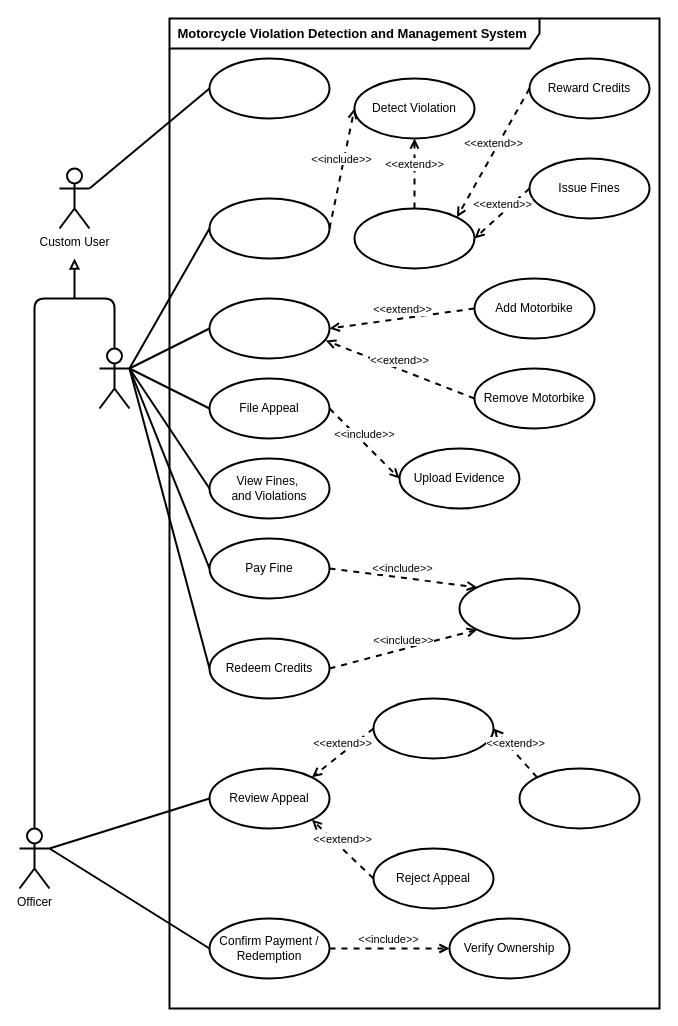
The diagram is 678 pixels wide and 1026 high, and some of its shapes have lost their labels. The shapes that lost their labels are listed below. From the top down, each one's box as (x1, y1, x2, y2) in pixels, then its label:
(208, 57, 330, 119): Login / Register
(208, 197, 330, 259): Report Violation
(353, 207, 475, 269): Validate Violation
(208, 297, 330, 359): Manage Motorbikes
(98, 347, 130, 409): Citizen
(458, 577, 580, 639): Download Receipt
(372, 697, 494, 759): Accept Appeal
(518, 767, 640, 829): Suspend Reporter
